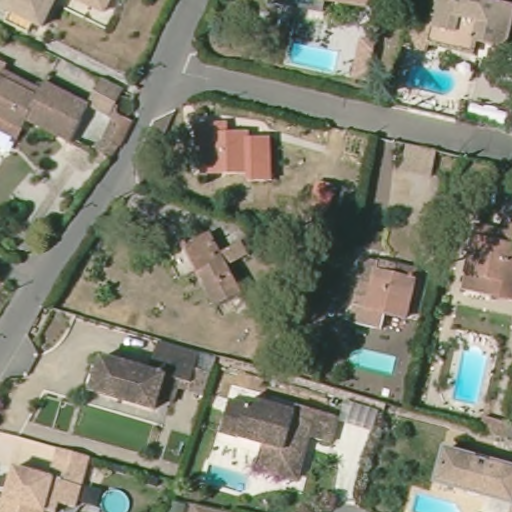pool: (397, 55, 465, 100), (282, 34, 343, 77), (452, 339, 486, 409), (203, 459, 258, 495), (346, 341, 397, 378), (407, 484, 460, 512), (99, 489, 137, 511)
